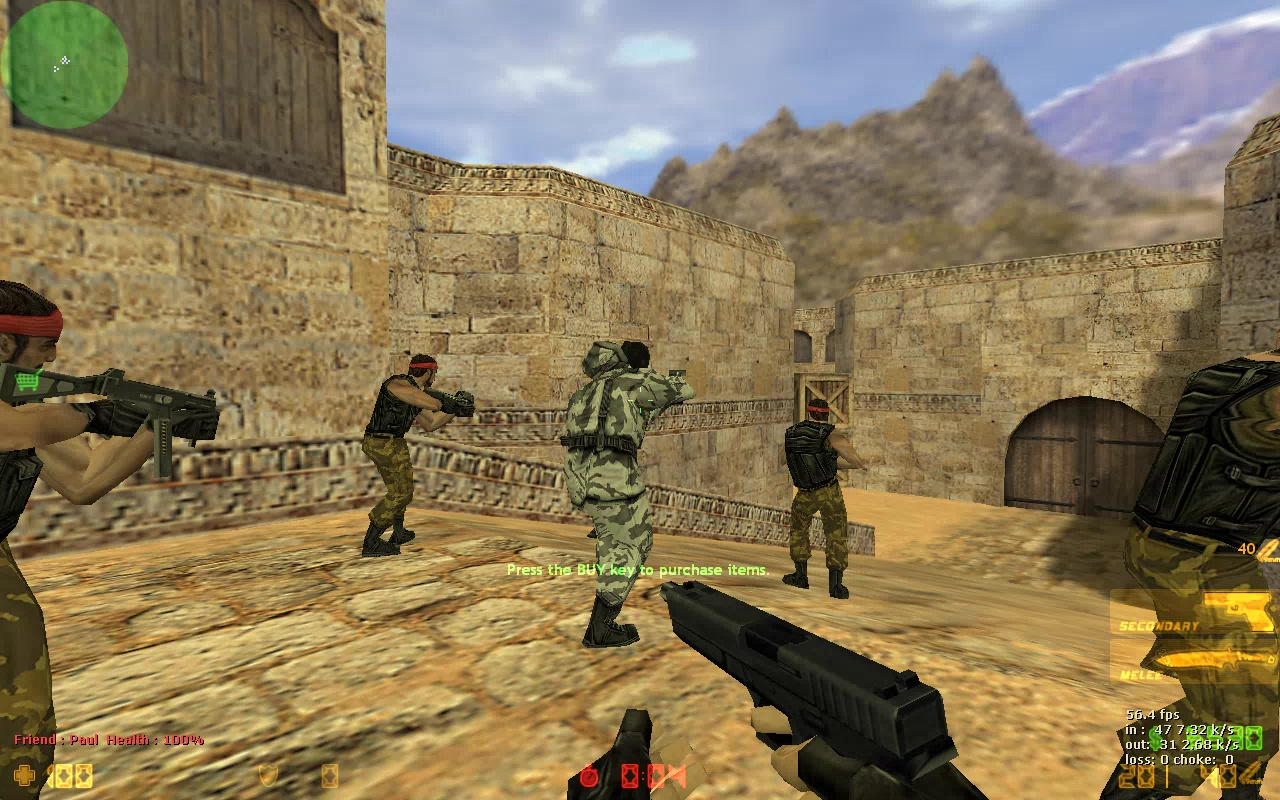terr1: (3, 280, 218, 800), (1088, 343, 1277, 800), (364, 351, 477, 562), (778, 396, 859, 595)
terr2: (560, 334, 694, 653)
